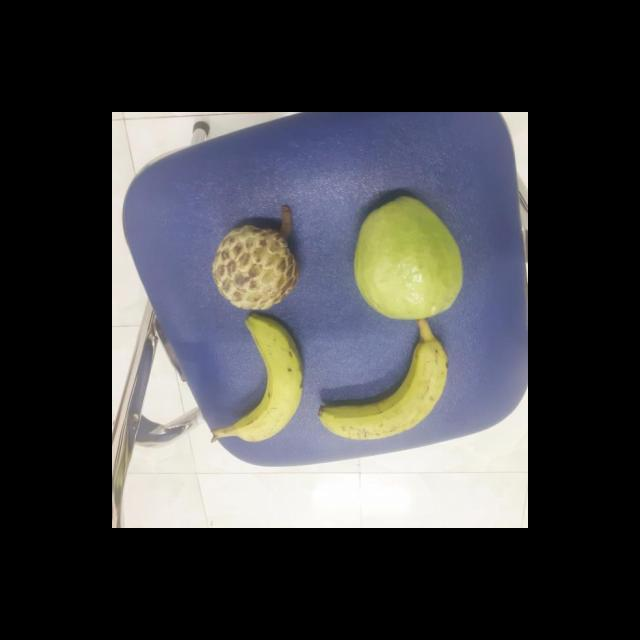Sakya fruit: (210, 223, 302, 315)
banana: (317, 332, 450, 446), (226, 314, 307, 446)
guava: (351, 192, 466, 328)
